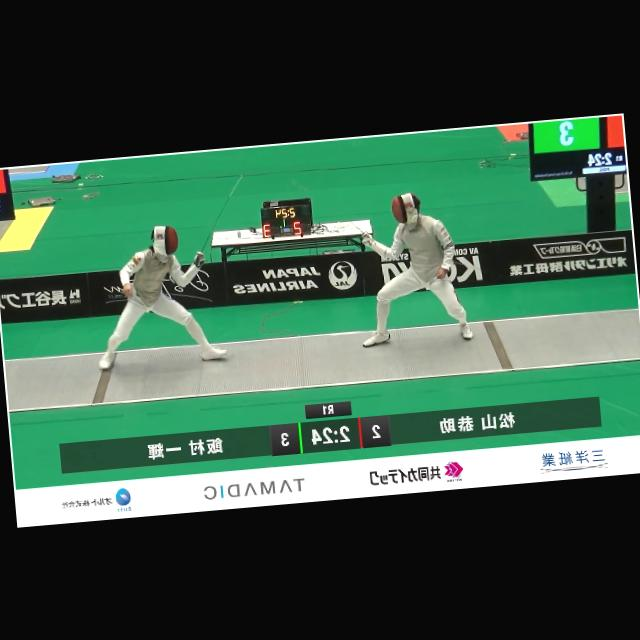blade: (286, 168, 371, 250), (185, 171, 254, 264)
